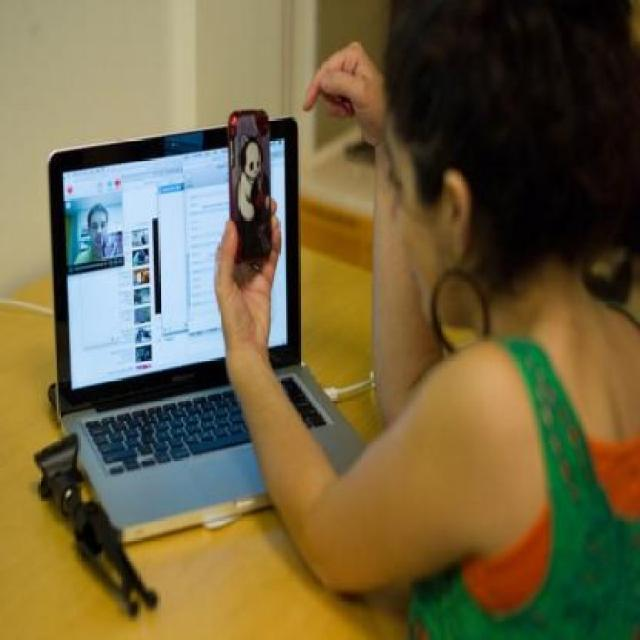phone: (179, 104, 293, 368)
